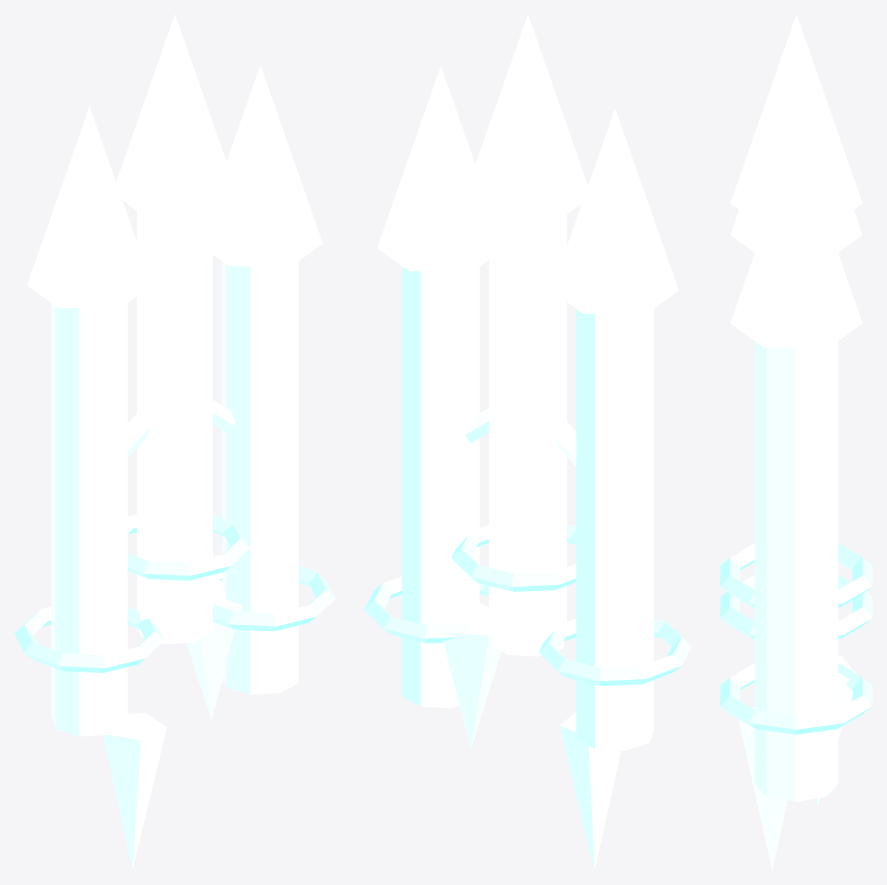
Rendered from pulse_carbine_burst.glb.
The picture shows the model from 3 angles, left to right: view 1: azimuth 30°, elevation 25°; view 2: azimuth 150°, elevation 25°; view 3: azimuth 270°, elevation 25°; orthographic projection. The views are drawn at different scales.
Visible parts, largest first — view 1: BurstPulse_0, BurstPulse_1, BurstPulse_2, BurstTip_0, BurstTip_1, BurstTip_2, BurstWake_1, BurstRing_0, BurstRing_1, BurstRing_2, BurstWake_0, BurstLinkLeft; view 2: BurstPulse_0, BurstPulse_1, BurstPulse_2, BurstTip_0, BurstTip_1, BurstTip_2, BurstWake_0, BurstWake_1, BurstRing_0, BurstRing_1, BurstRing_2, BurstLinkLeft; view 3: BurstPulse_2, BurstTip_2, BurstTip_1, BurstRing_2, BurstRing_1, BurstRing_0, BurstWake_1, BurstTip_0, BurstWake_0, BurstPulse_1.
Part boxes in pixels (box(x1,y1,x2,y2)): BurstPulse_0: box(51, 303, 127, 736); BurstPulse_1: box(137, 211, 212, 643); BurstPulse_2: box(222, 261, 298, 694); BurstTip_0: box(27, 107, 151, 307); BurstTip_1: box(116, 14, 237, 215); BurstTip_2: box(213, 65, 322, 266); BurstWake_1: box(103, 712, 166, 870); BurstRing_0: box(14, 607, 164, 672); BurstRing_1: box(127, 514, 249, 580); BurstRing_2: box(213, 565, 335, 631); BurstWake_0: box(186, 579, 242, 720); BurstLinkLeft: box(127, 410, 150, 457); BurstPulse_0: box(576, 309, 653, 750); BurstPulse_1: box(489, 215, 566, 656); BurstPulse_2: box(402, 266, 479, 708); BurstTip_0: box(551, 108, 678, 313); BurstTip_1: box(464, 14, 587, 219); BurstTip_2: box(377, 66, 488, 271); BurstWake_0: box(436, 603, 501, 748); BurstWake_1: box(559, 712, 620, 870); BurstRing_0: box(538, 618, 691, 685); BurstRing_1: box(451, 524, 576, 591); BurstRing_2: box(364, 576, 488, 643); BurstLinkLeft: box(552, 418, 576, 466); BurstPulse_2: box(754, 341, 838, 801); BurstTip_2: box(730, 134, 862, 347); BurstTip_1: box(730, 14, 862, 227); BurstRing_2: box(720, 663, 872, 734); BurstRing_1: box(720, 543, 872, 608); BurstRing_0: box(720, 575, 872, 639); BurstWake_1: box(738, 707, 787, 870); BurstTip_0: box(730, 210, 862, 252); BurstWake_0: box(815, 656, 855, 805); BurstPulse_1: box(754, 221, 838, 252).
Size of the model in its own units: 0.53 by 1.4 by 0.2187.
